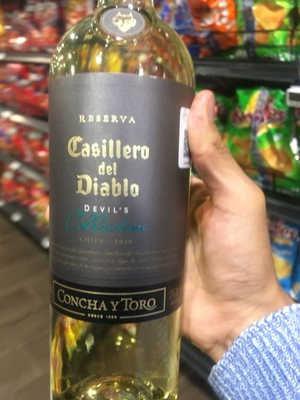casillero del diablo devils collection verde: (38, 20, 197, 400)
